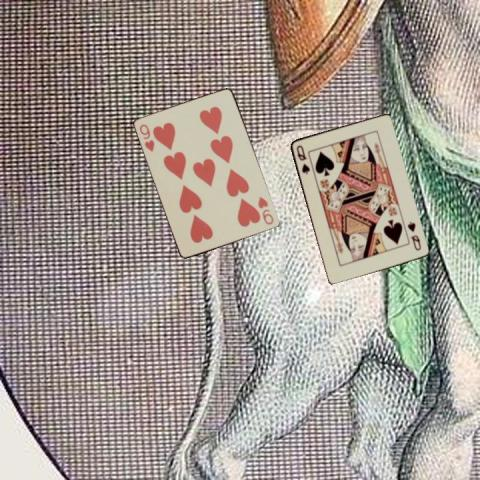9h: (255, 193, 276, 226), (137, 122, 156, 154)
Qs: (293, 142, 311, 175), (404, 219, 422, 252)
